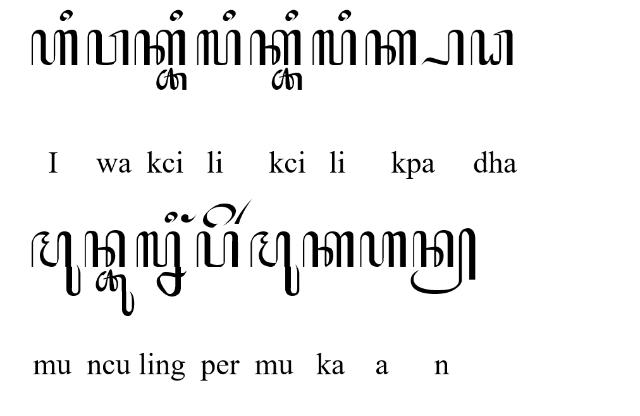-n: (410, 228, 476, 294)
_c: (155, 67, 187, 91), (271, 67, 303, 91)
_cu: (96, 269, 134, 317)
_p: (420, 28, 466, 66)
_r1: (235, 198, 253, 223)
dh: (470, 28, 514, 66)
e: (202, 204, 236, 228)
h: (359, 230, 407, 268), (31, 30, 78, 66)
i: (169, 8, 183, 22), (338, 8, 352, 22), (59, 10, 73, 22), (222, 10, 236, 22), (285, 10, 299, 22), (164, 211, 178, 223)
k: (133, 29, 187, 67), (365, 29, 417, 66), (250, 29, 302, 65), (302, 232, 354, 268)
l: (196, 28, 242, 66), (311, 30, 357, 66)
ln: (135, 229, 187, 297)
mu: (30, 230, 81, 296), (250, 231, 300, 297)
n: (84, 230, 126, 270)
ng: (180, 214, 196, 223)
p: (196, 230, 238, 268)
w: (86, 30, 130, 66)
